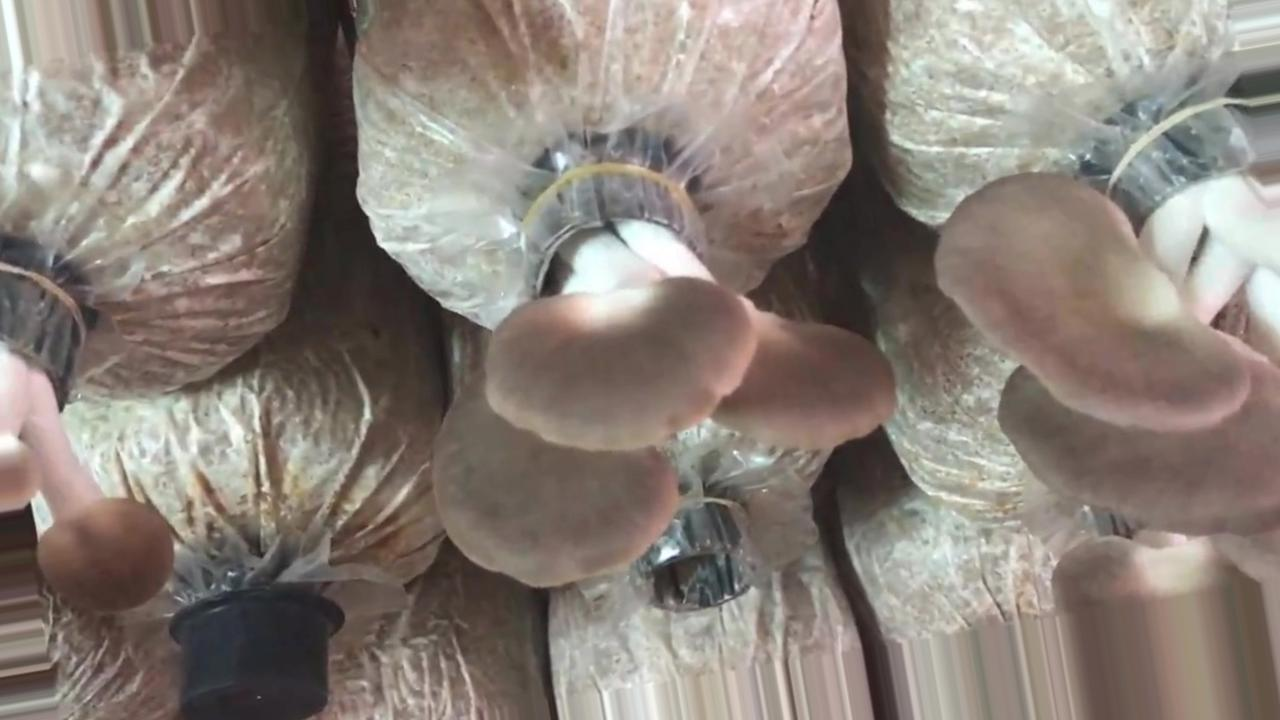nam: (431, 173, 894, 589), (937, 137, 1280, 537), (1, 273, 173, 615), (1054, 537, 1279, 715)
